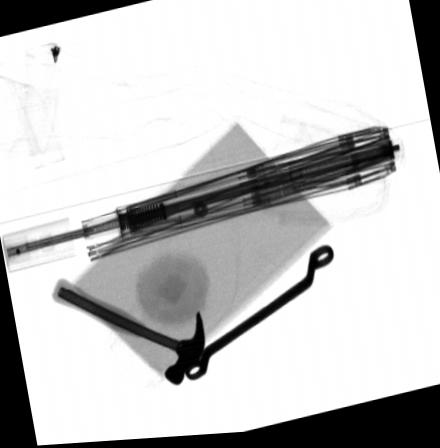Hammer: (50, 279, 204, 386)
Wrench: (183, 248, 333, 381)
